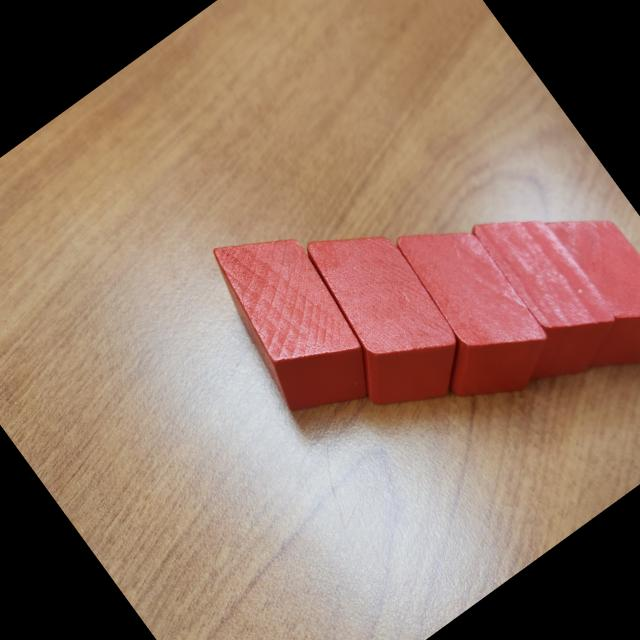red: (186, 204, 397, 438), (274, 202, 486, 434), (360, 198, 568, 425), (437, 188, 633, 402), (505, 184, 640, 392)
